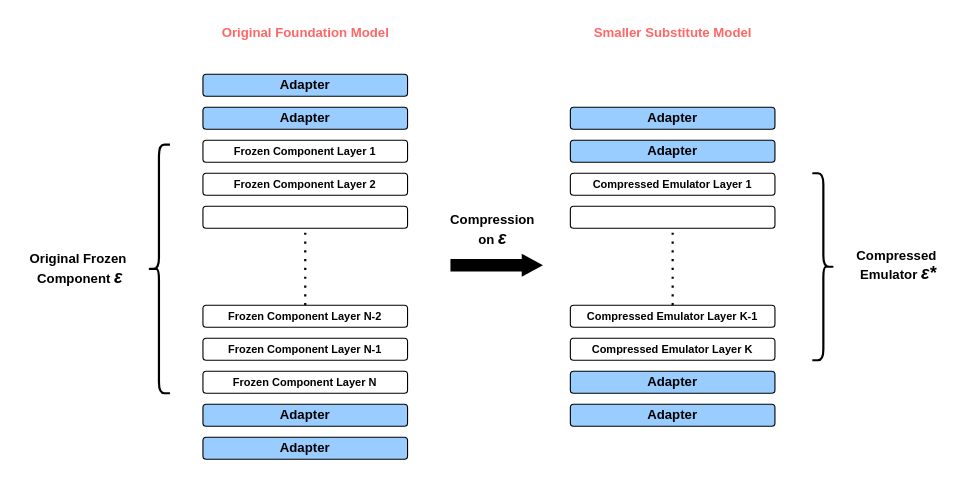
Some shapes in this 968 by 479 pixel diagram are drawn without their labels. The shapes that lost their labels are listed below. From the top down, each one's box as (x1, y1, x2, y2) in pixels, then its label:
(202, 205, 408, 228): Frozen Component Layer 3
(569, 205, 775, 228): Compressed Emulator Layer 2
